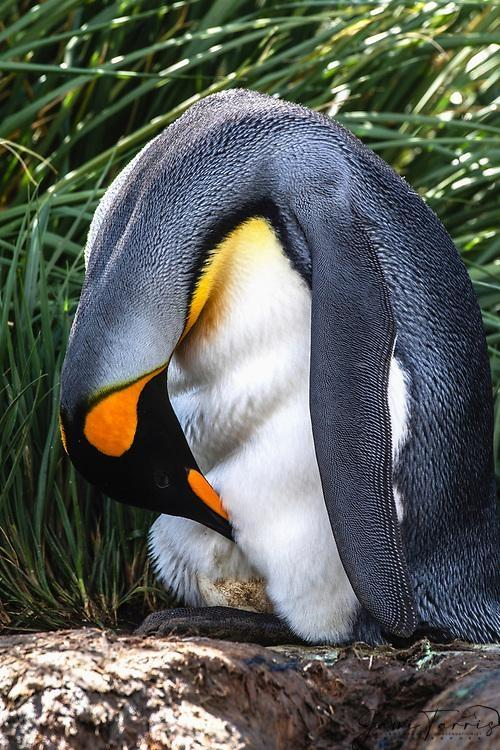Penguin: (60, 89, 497, 644)
